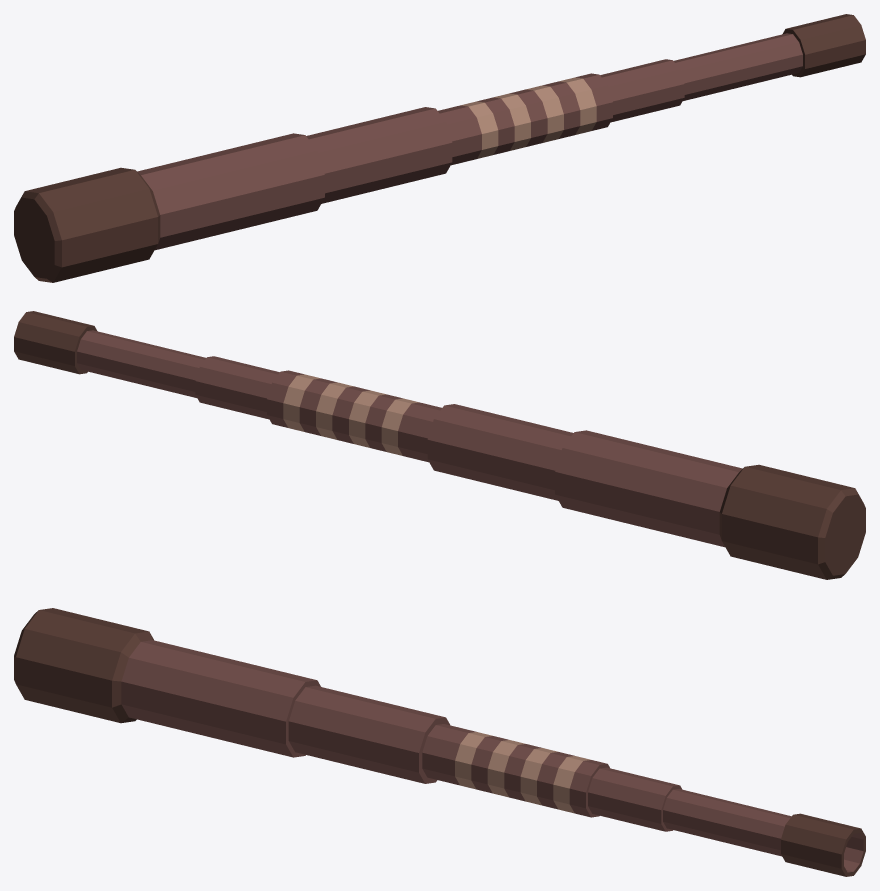
The model's file is Tank_4_Cannon.glb.
The picture shows the model from 3 angles, top to bottom: view 1: azimuth 30°, elevation 25°; view 2: azimuth 150°, elevation 25°; view 3: azimuth 330°, elevation 25°; orthographic projection.
Parts seen in each view (by area): view 1: Tank_Gun_Cylinder.002; view 2: Tank_Gun_Cylinder.002; view 3: Tank_Gun_Cylinder.002.
Boxes of the visible parts, box(x1,y1,x2,y2) form: Tank_Gun_Cylinder.002: box(14, 14, 865, 282); Tank_Gun_Cylinder.002: box(14, 311, 865, 579); Tank_Gun_Cylinder.002: box(14, 608, 865, 876).
Size of the model in its own units: 14.39 by 1.47 by 1.4.
